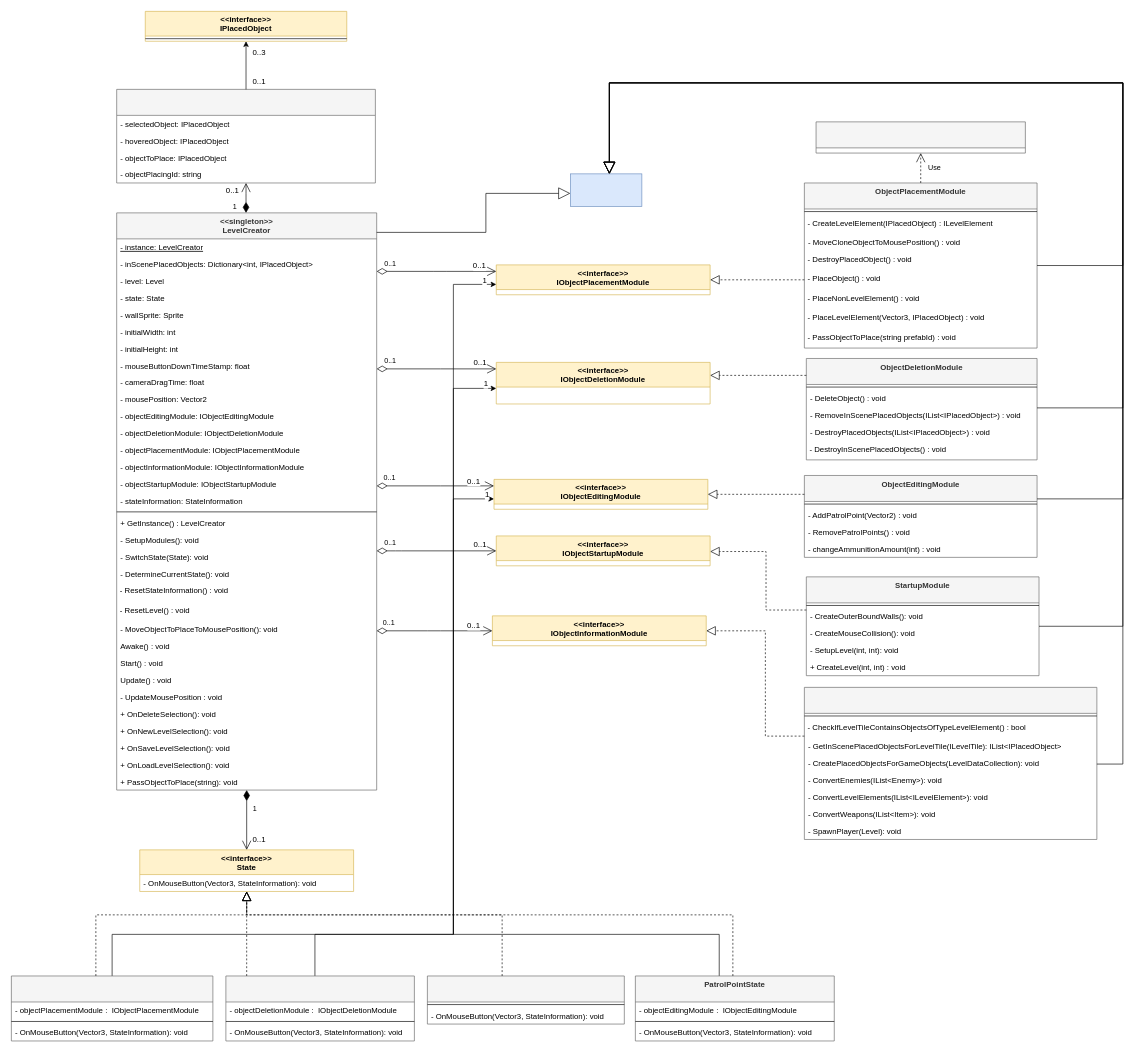
This 1146x1054 diagram has some shape labels left out. Here are the shapes that lost their labels. From the top down, the box of each, then its label:
(116, 89, 375, 183): StateInformation
(815, 121, 1025, 153): ObjectToDataConverter
(570, 173, 642, 206): MonoBehaviour
(804, 687, 1097, 839): ObjectInformationModule
(11, 975, 213, 1041): ObjectPlacementState
(225, 975, 414, 1041): ObjectDeletionState
(427, 975, 624, 1024): ObjectEditingState
